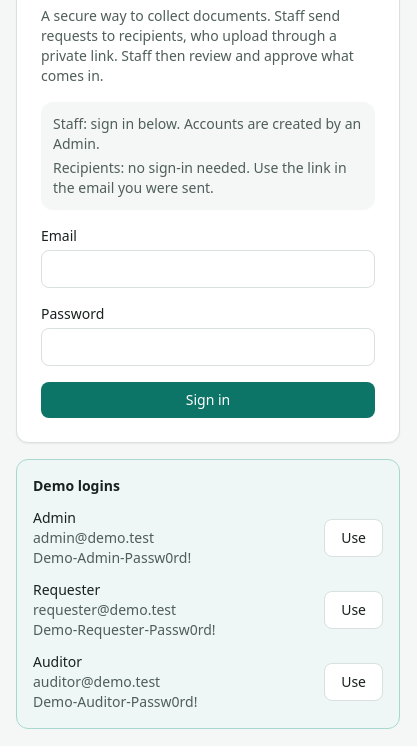
it: demo logins on the sign-in page › shows every demo login and fills the form from one
The width and height of the screenshot is (417, 746).
(page scrolled)
Expected: the element "Demo logins" shows "admin@demo.test", 33,528 -> 154,547
Expected: the element "Demo logins" shows "requester@demo.test", 33,600 -> 176,619
Click the button with aria-label "Use the Auditor login" at coordinates (354, 682), box 324,663 -> 383,701
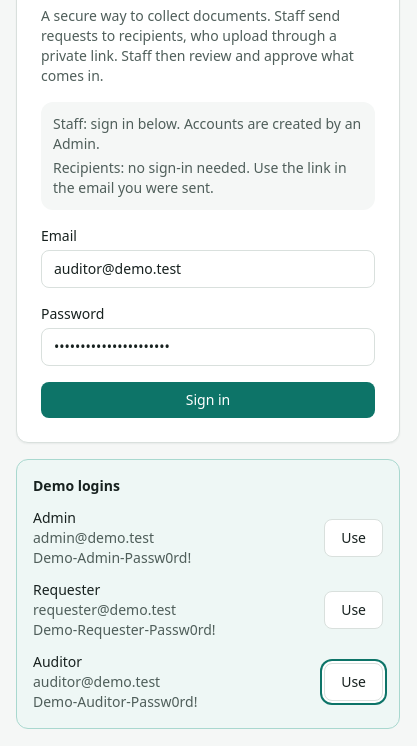
Expected: the field labelled "Email" holds "auditor@demo.test", 41,250 -> 375,288
Expected: the password field labelled "Password" holds "Demo-Auditor-Passw0rd!", 41,328 -> 375,366
